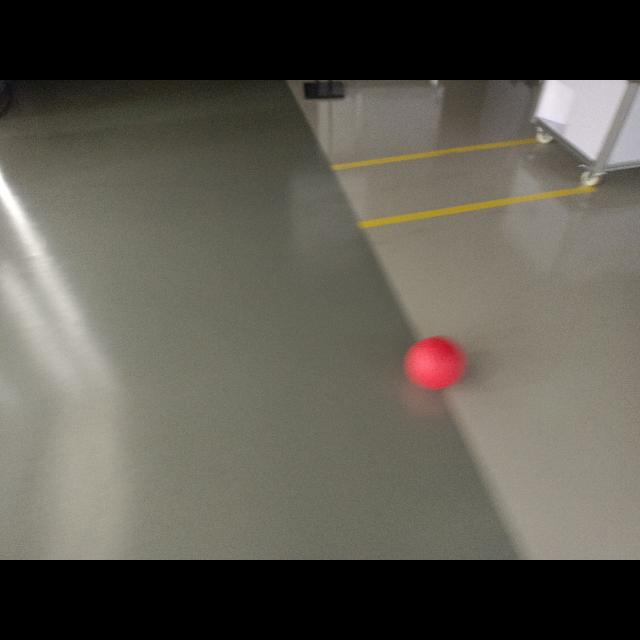R: (404, 336, 464, 390)
